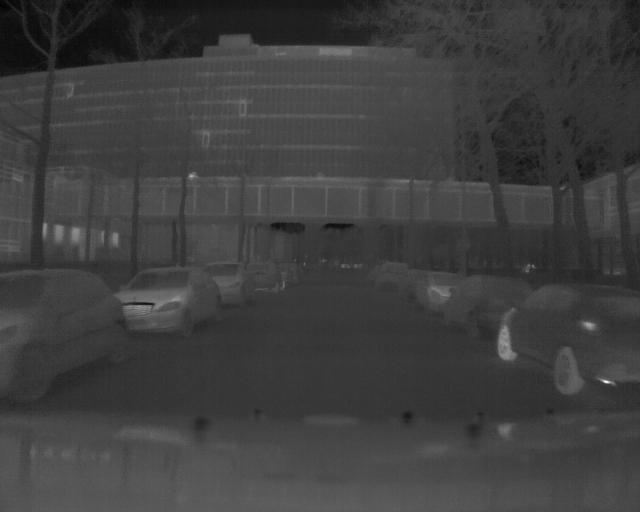car: (1, 271, 133, 393), (504, 290, 640, 397), (120, 266, 224, 332), (442, 272, 526, 340), (205, 258, 257, 305), (412, 270, 453, 311)
